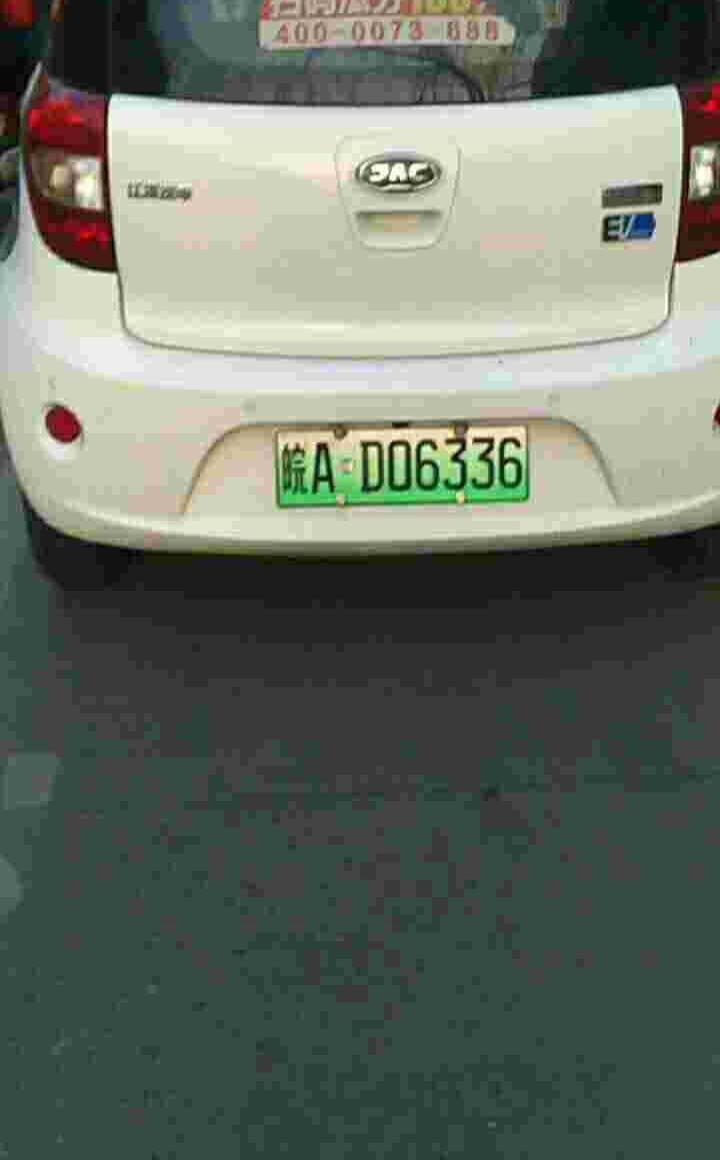car_id: (272, 423, 530, 505)
